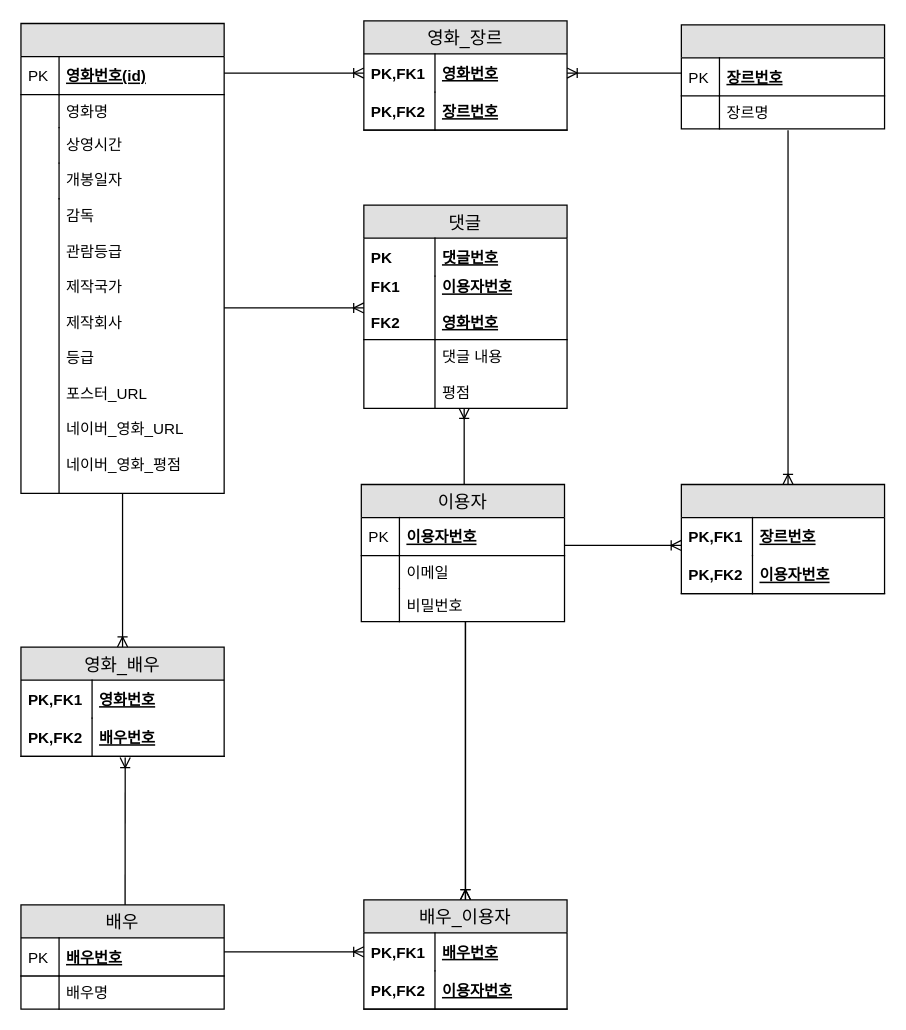
This 906x1030 diagram has some shape labels left out. The box of each missing label's shape, as (x1, y1, x2, y2) in pixels:
영화: (20, 22, 224, 493)
장르: (680, 23, 885, 129)
장르_이용자: (680, 483, 885, 594)
